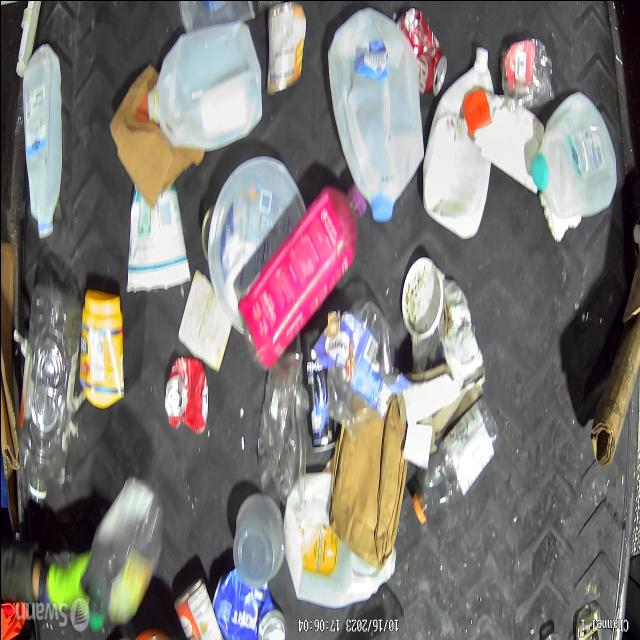can: (212, 580, 287, 638), (399, 8, 447, 96), (300, 336, 334, 458), (163, 357, 210, 439), (264, 1, 302, 102), (173, 561, 213, 640)
milk_jug: (327, 22, 422, 226), (146, 29, 262, 149), (426, 47, 492, 239), (536, 83, 614, 223), (22, 46, 63, 248)
non_white_jug: (238, 175, 359, 362)
plastic_bottle: (19, 288, 71, 510), (410, 396, 496, 528)
